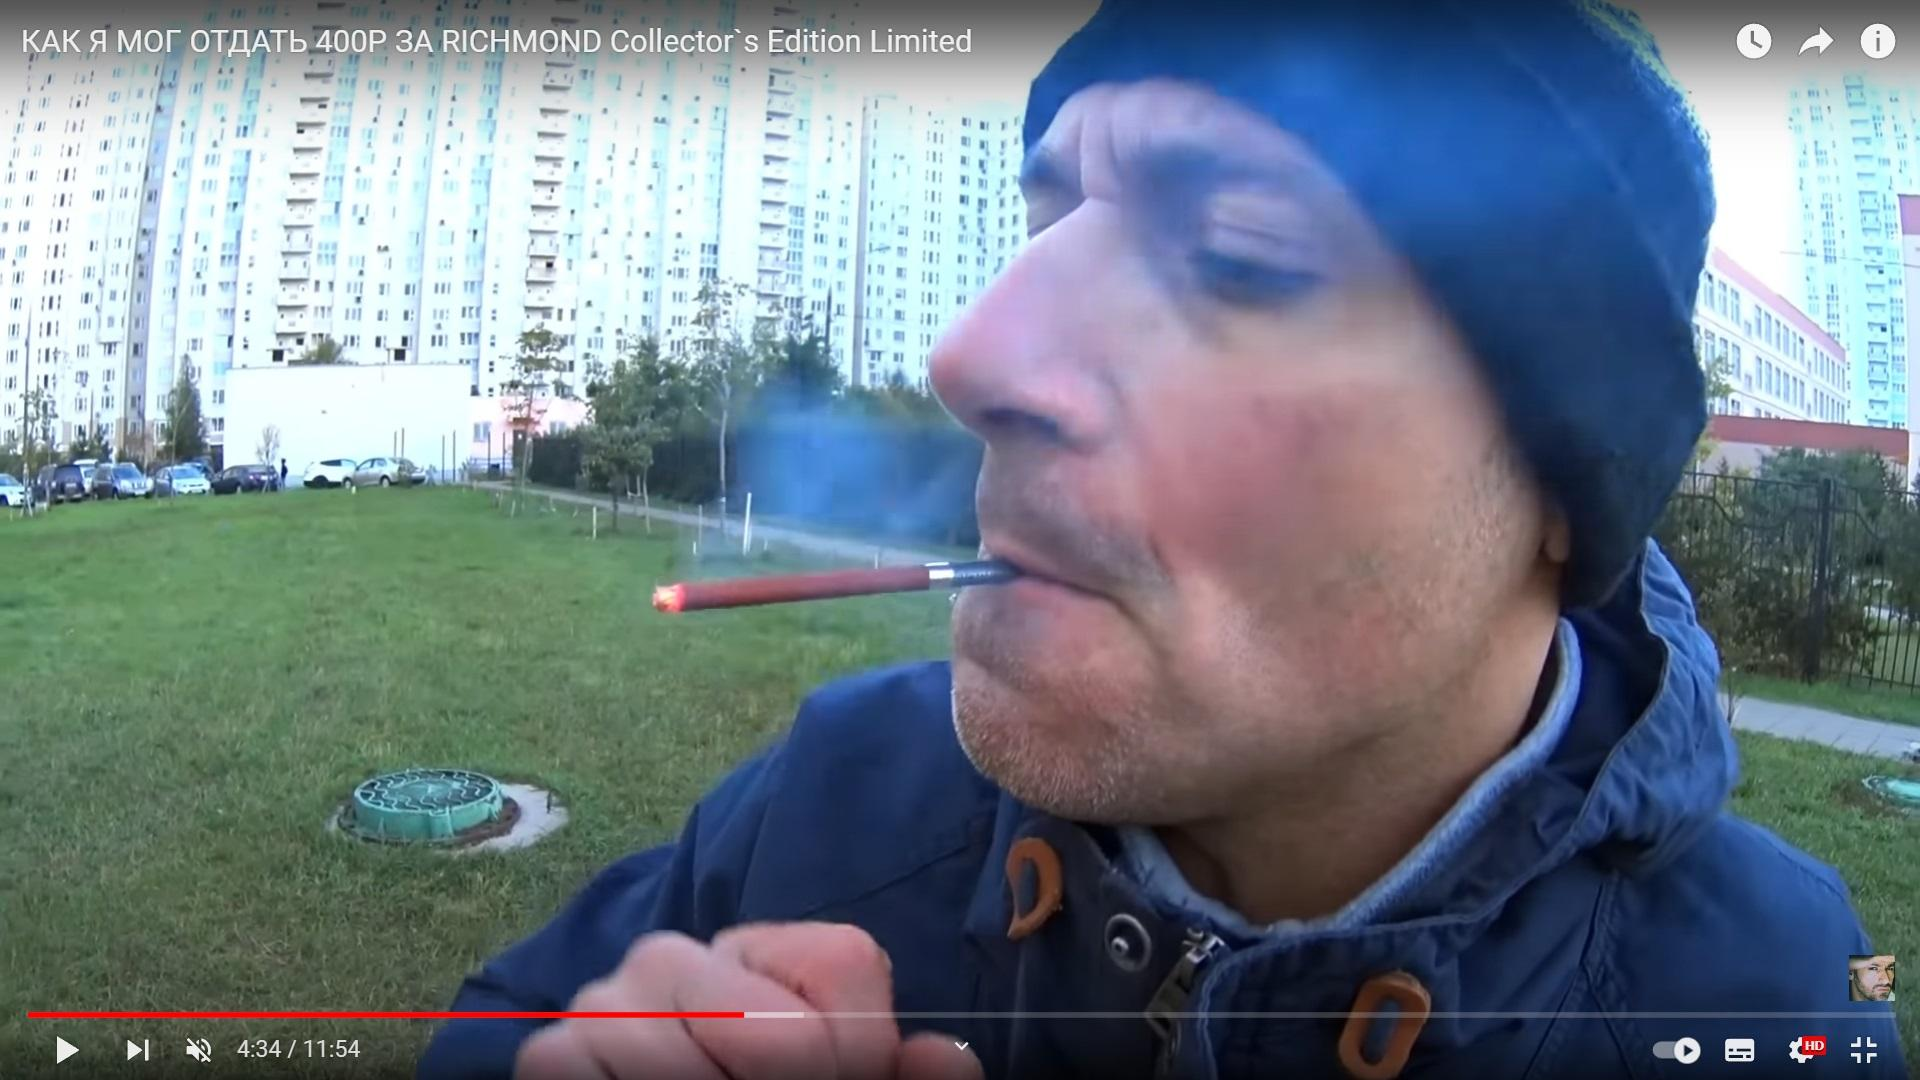cigarette: (650, 559, 1023, 615)
